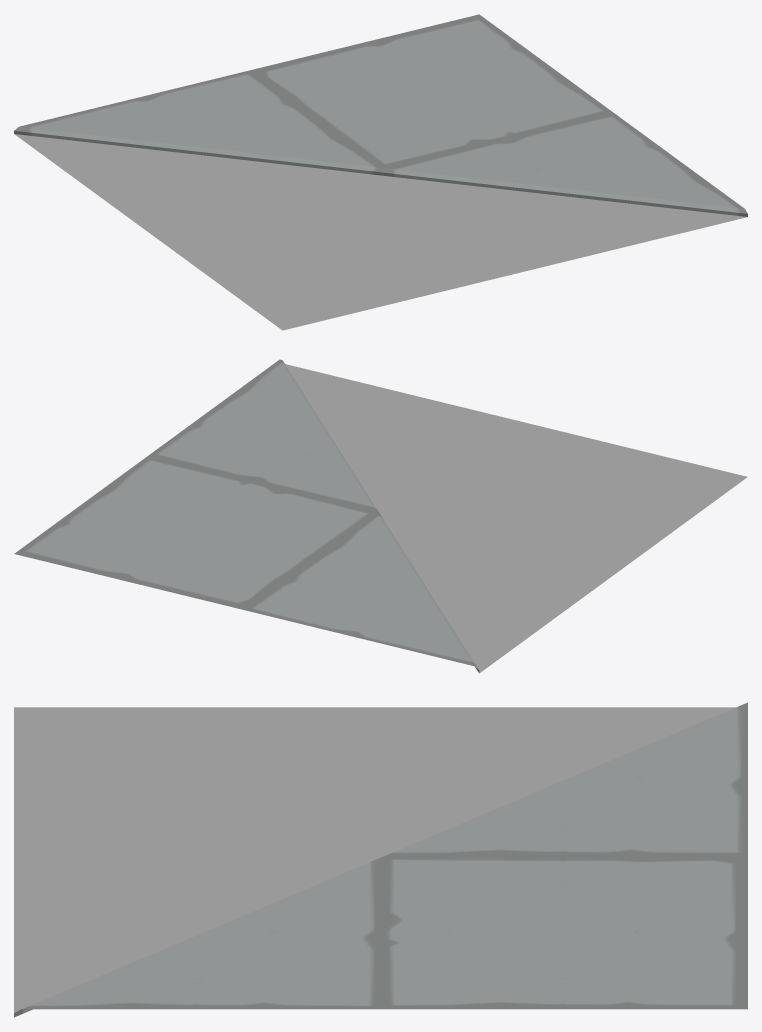
The model's file is triangle_sidewalk_and_road.fbx.
3 renders of one model, top to bottom at view 1: azimuth 30°, elevation 25°; view 2: azimuth 150°, elevation 25°; view 3: azimuth 270°, elevation 25°, orthographic. The views are drawn at different scales.
Parts seen in each view (by area): view 1: triangle_sidewalk_and_road; view 2: triangle_sidewalk_and_road; view 3: triangle_sidewalk_and_road.
Boxes of the visible parts, x1,y1,x2,y2 form: triangle_sidewalk_and_road: (14,14,747,330); triangle_sidewalk_and_road: (14,359,747,673); triangle_sidewalk_and_road: (14,702,747,1017).
Size of the model in its own units: 199 by 2.49 by 199.
